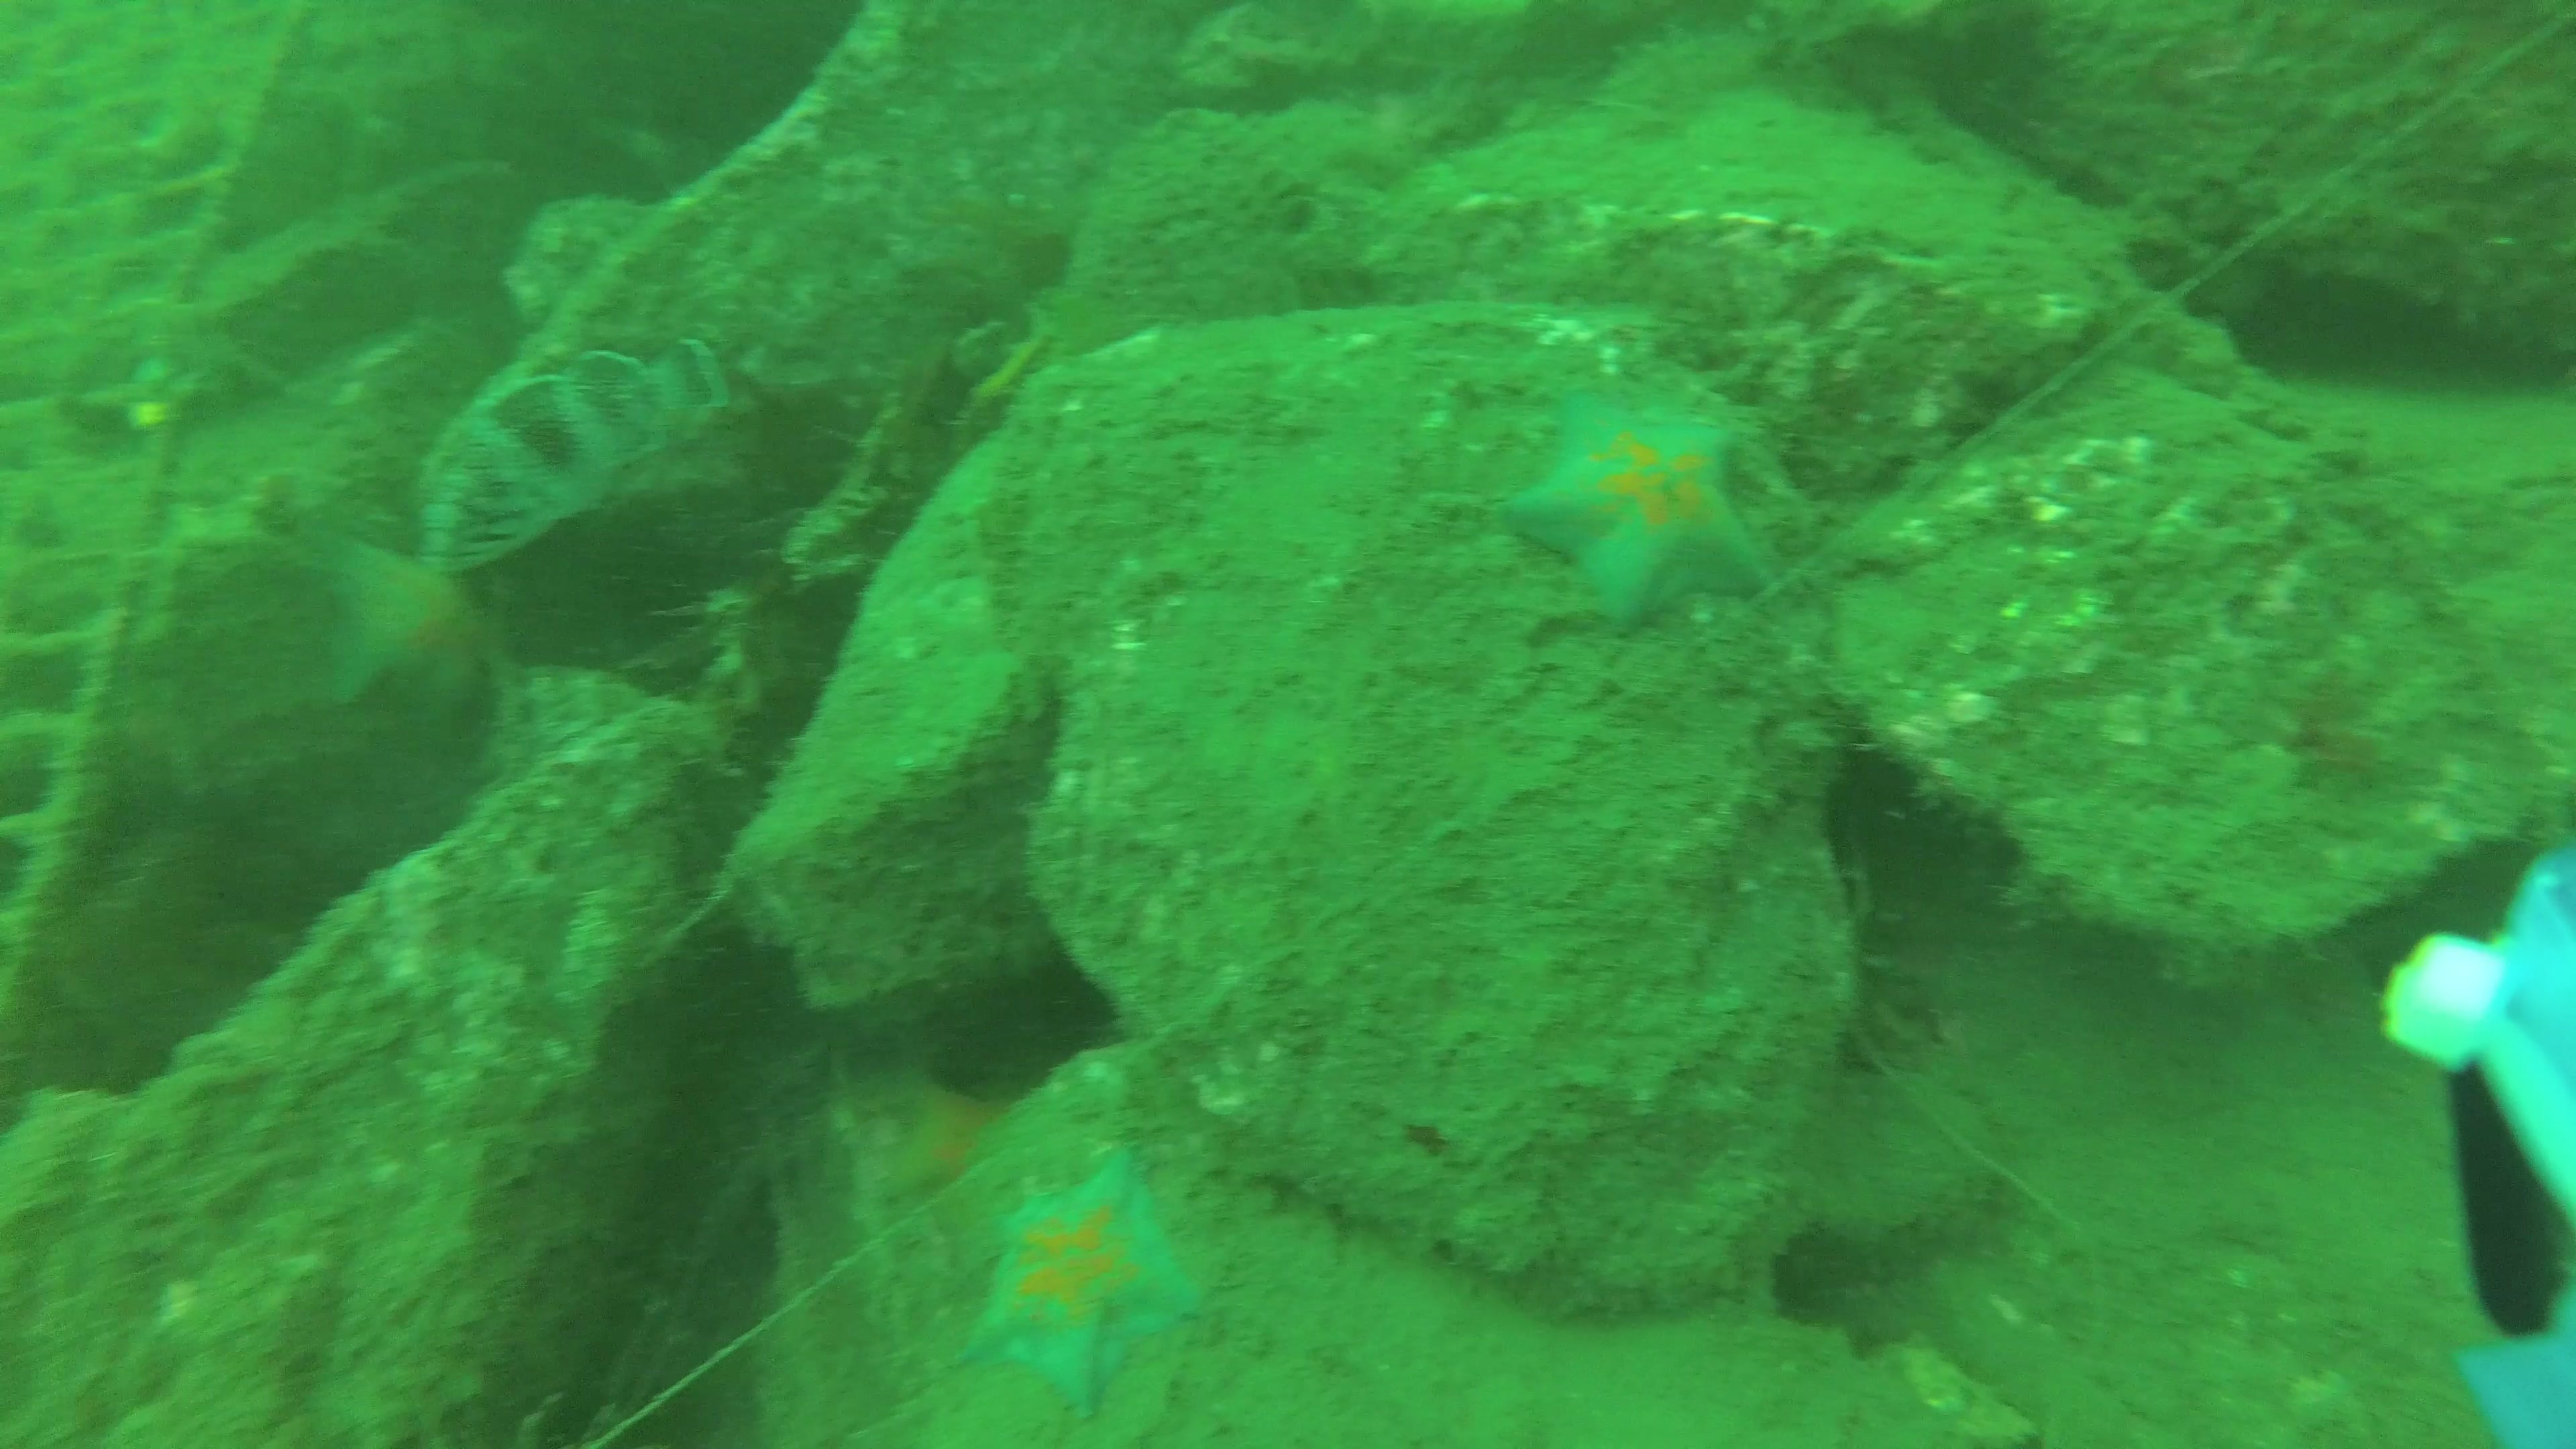starfish: (1511, 395, 1762, 632), (977, 1152, 1191, 1399), (306, 536, 487, 709), (860, 1040, 1023, 1221)
